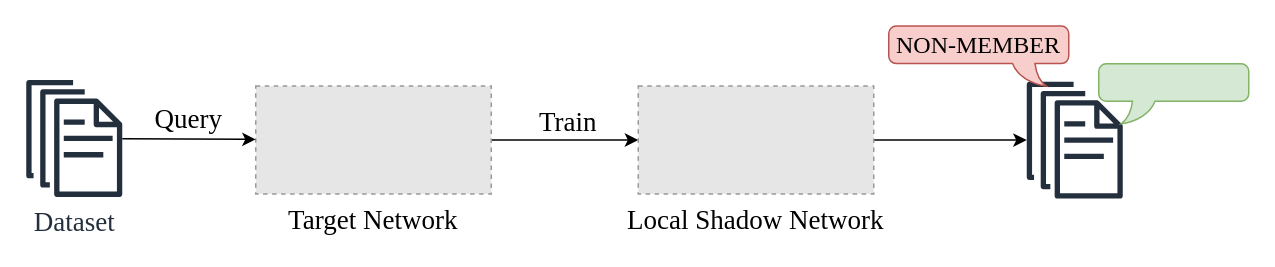
Image size: 1275x267. Some labels were removed from this diagram. Grey dashed boxes stand in for pictures. Here are the shapes that lost their labels. From the top down, the centre of each, then its label:
(1173,93): MEMBER
(1074,139): Dataset + Membership Info
